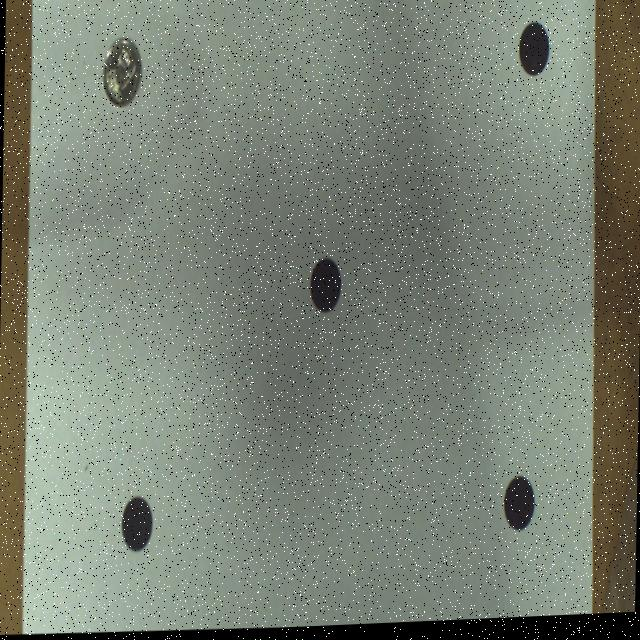head1bath: (102, 40, 141, 107)
space: (121, 498, 152, 552), (504, 480, 534, 535), (310, 261, 340, 315), (518, 28, 549, 80)
